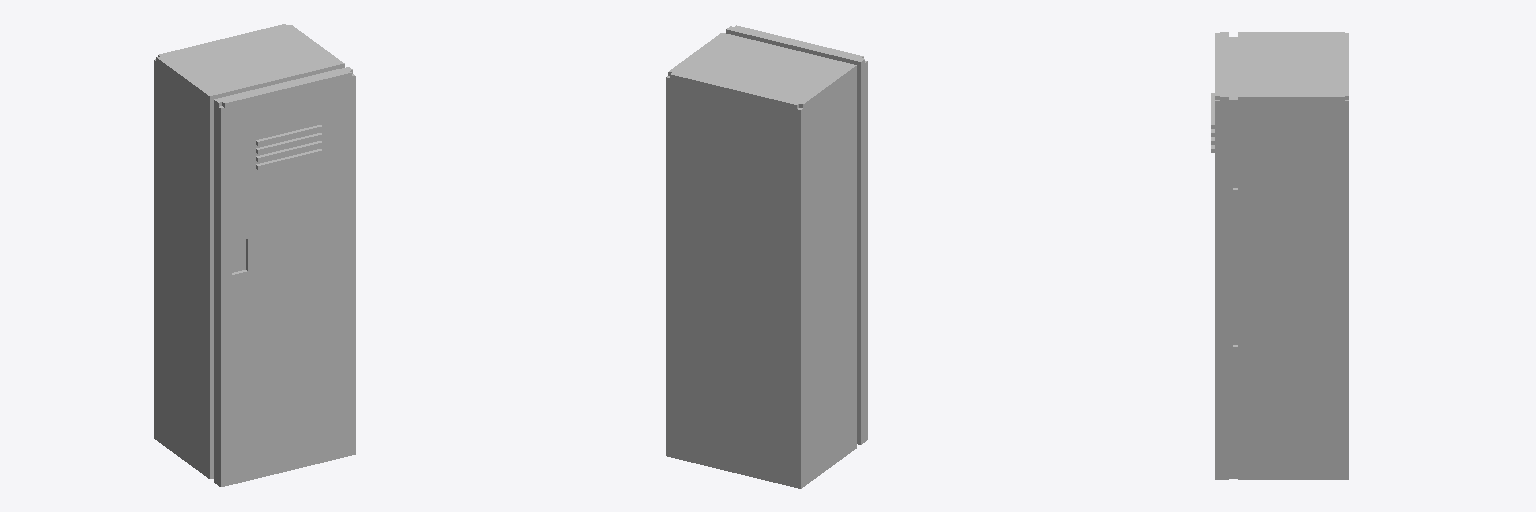
File: shelf.obj
The picture shows the model from 3 angles: view 1: azimuth 30°, elevation 25°; view 2: azimuth 150°, elevation 25°; view 3: azimuth 270°, elevation 25°; orthographic projection.
Parts seen in each view (by area): view 1: shelf; view 2: shelf; view 3: shelf.
Boxes of the visible parts, x1,y1,x2,y2 form: shelf: [154, 24, 355, 486]; shelf: [666, 25, 867, 488]; shelf: [1211, 32, 1348, 479].
Bounding box in the file's own units: 35 × 95 × 31.